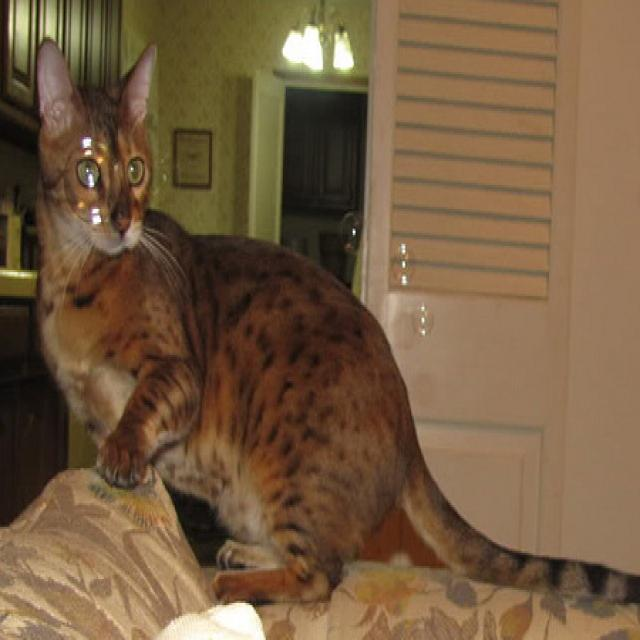Bengal: (20, 24, 640, 623)
